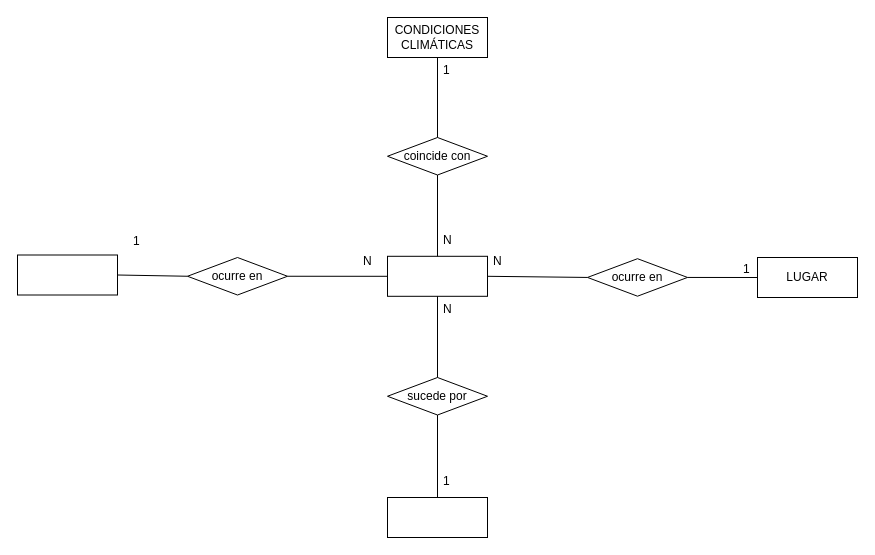
The diagram is 875 pixels wide and 555 high, and some of its shapes have lost their labels. The centre of each missing label's shape, as x and y in pixels:
"CAUSA" goes at point 437,517.
"FECHA/EPOCA DEL AÑO" goes at point 67,274.
"INCENDIO" goes at point 437,275.
